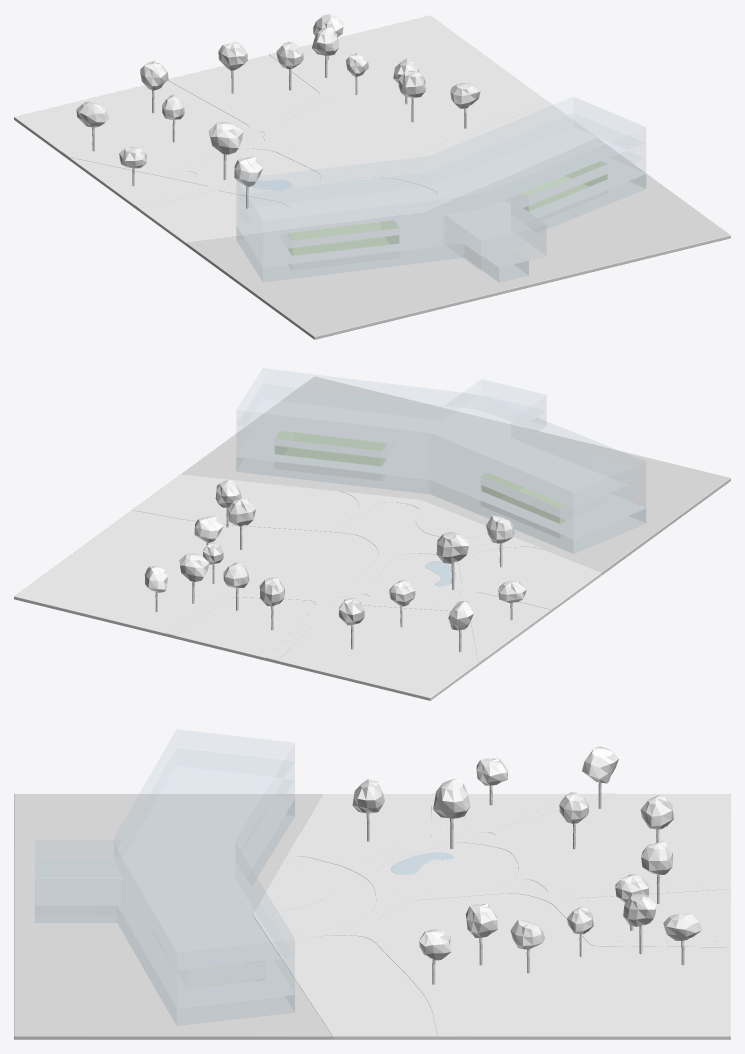
Rendered from campus.gltf.
3 views of the same model, one above another, from view 1: azimuth 30°, elevation 25°; view 2: azimuth 150°, elevation 25°; view 3: azimuth 270°, elevation 25° (orthographic). The views are drawn at different scales.
Visible parts, largest first — view 1: park, building_base, floor_2, floor_3, floor_1, paths_Retopo, floor_0, room2, room1, tree010, tree013, tree012 (+8 smaller); view 2: park, building_base, floor_2, floor_3, floor_1, floor_0, paths_Retopo, room1, room2, tree010, tree01, tree013 (+10 smaller); view 3: park, building_base, floor_2, floor_3, paths_Retopo, floor_1, floor_0, tree010, tree012, tree005, tree01, tree007 (+10 smaller).
Boxes of the visible parts, x1=… form: park: x1=14, y1=15, x2=596, y2=244; building_base: x1=185, y1=138, x2=730, y2=339; floor_2: x1=237, y1=113, x2=645, y2=255; floor_3: x1=237, y1=97, x2=645, y2=235; floor_1: x1=237, y1=151, x2=645, y2=270; paths_Retopo: x1=62, y1=52, x2=552, y2=232; floor_0: x1=236, y1=166, x2=645, y2=282; room2: x1=288, y1=220, x2=398, y2=255; room1: x1=521, y1=161, x2=606, y2=211; tree010: x1=208, y1=122, x2=243, y2=179; tree013: x1=234, y1=156, x2=263, y2=208; tree012: x1=76, y1=101, x2=109, y2=151; park: x1=14, y1=474, x2=601, y2=700; building_base: x1=181, y1=376, x2=730, y2=574; floor_2: x1=237, y1=379, x2=645, y2=522; floor_3: x1=237, y1=368, x2=645, y2=506; floor_1: x1=237, y1=395, x2=645, y2=537; floor_0: x1=236, y1=443, x2=645, y2=553; paths_Retopo: x1=132, y1=491, x2=555, y2=662; room1: x1=275, y1=431, x2=386, y2=466; room2: x1=482, y1=473, x2=566, y2=523; tree010: x1=436, y1=532, x2=468, y2=589; tree01: x1=179, y1=553, x2=209, y2=603; tree013: x1=486, y1=515, x2=514, y2=567; park: x1=271, y1=794, x2=730, y2=1039; building_base: x1=14, y1=794, x2=332, y2=1039; floor_2: x1=35, y1=748, x2=294, y2=988; floor_3: x1=115, y1=730, x2=294, y2=969; paths_Retopo: x1=253, y1=793, x2=730, y2=1035; floor_1: x1=35, y1=779, x2=294, y2=1006; floor_0: x1=35, y1=798, x2=294, y2=1025; tree010: x1=433, y1=778, x2=470, y2=849; tree012: x1=582, y1=746, x2=618, y2=808; tree005: x1=465, y1=903, x2=497, y2=965; tree01: x1=623, y1=894, x2=656, y2=953; tree007: x1=641, y1=841, x2=672, y2=903.
Bounding box in the file's own units: 2.8 × 0.42 × 3.5.
6 materials, 2 textured.
